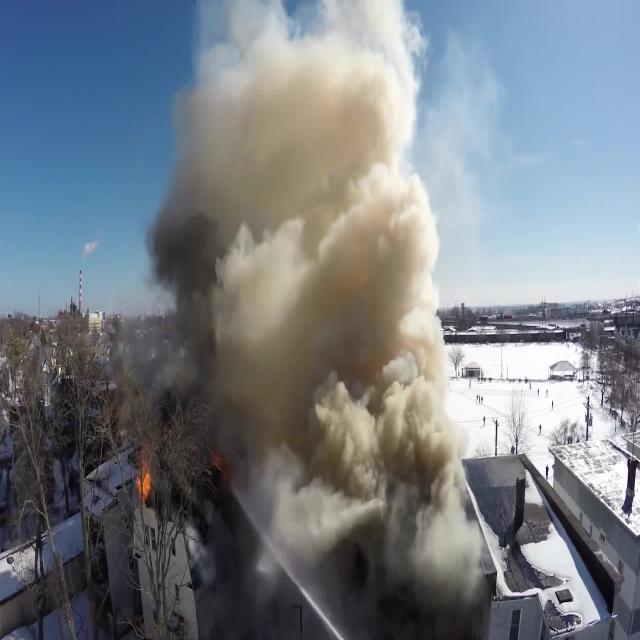Fire: (206, 448, 233, 486), (140, 461, 152, 500)
Smoke: (240, 35, 470, 596)
